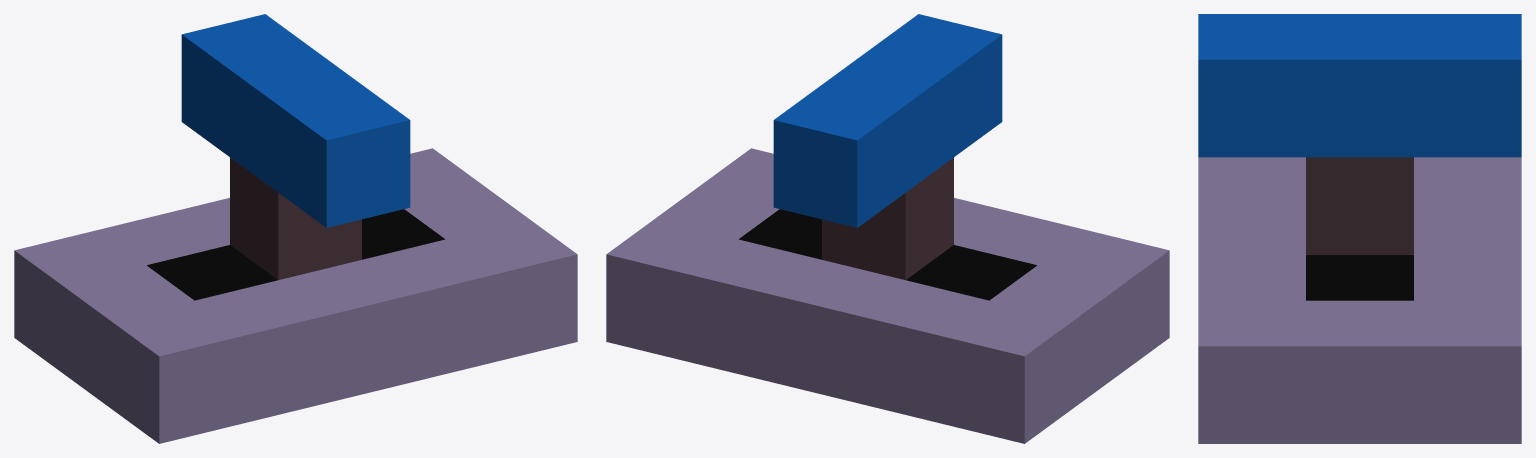
The model's file is lever_a_a_blue_off.obj.
The picture shows the model from 3 angles, left to right: view 1: azimuth 30°, elevation 25°; view 2: azimuth 150°, elevation 25°; view 3: azimuth 270°, elevation 25°; orthographic projection. The views are drawn at different scales.
Bounding box in the file's own units: 0.5 × 0.3 × 0.3.
1 material, 1 textured.
